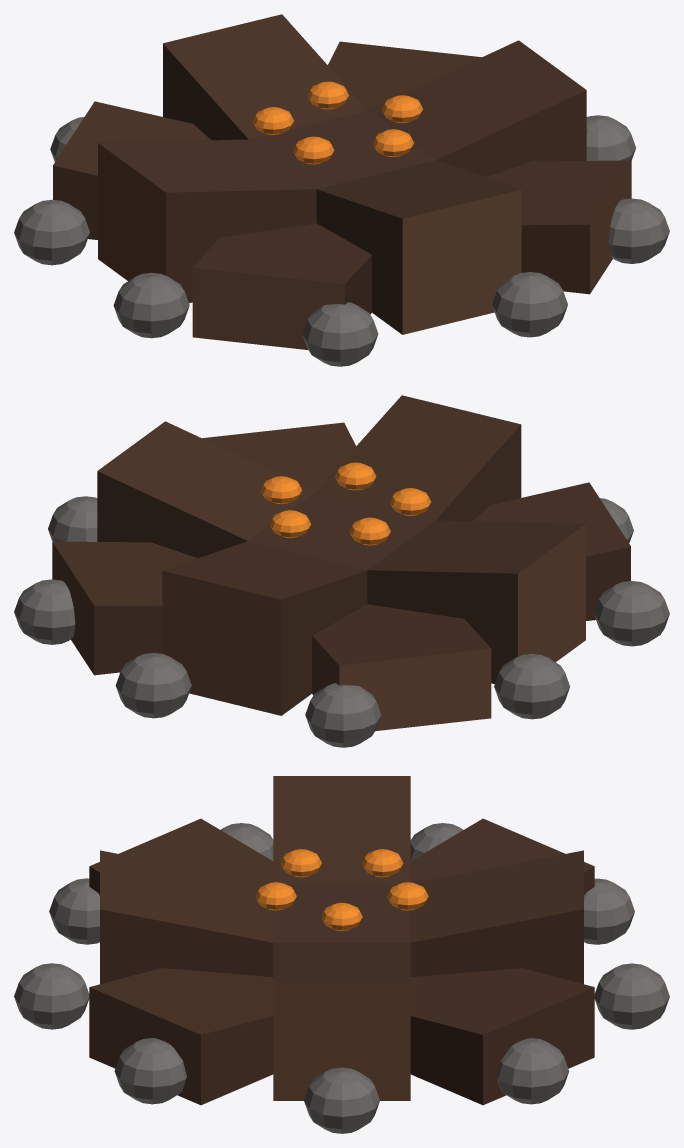
File: campfire_logs.glb
3 views of the same model, one above another, from view 1: azimuth 30°, elevation 25°; view 2: azimuth 150°, elevation 25°; view 3: azimuth 270°, elevation 25° (orthographic).
Parts seen in each view (by area): view 1: campfire_logs; view 2: campfire_logs; view 3: campfire_logs.
Part boxes in pixels (x1,y1,x2,y2): campfire_logs: [14, 14, 669, 366]; campfire_logs: [14, 395, 669, 747]; campfire_logs: [14, 776, 669, 1133].
Bounding box in the file's own units: 0.2919 × 0.0626 × 0.2919.
